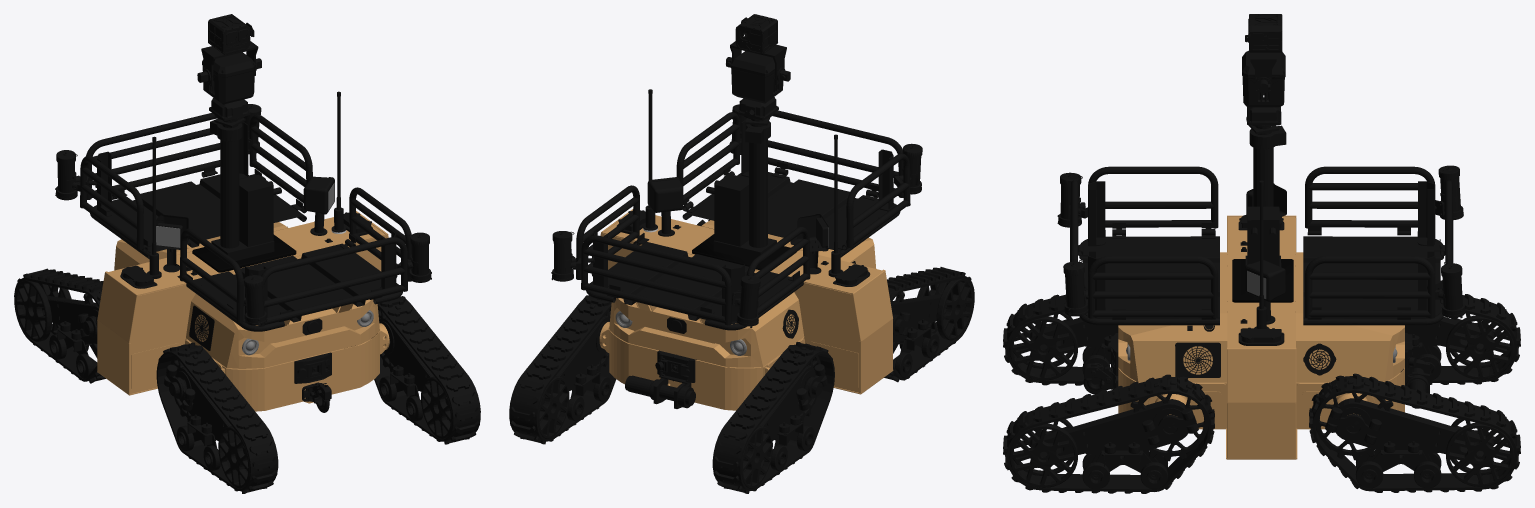
File: Hancer_Root.glb
The picture shows the model from 3 angles, left to right: view 1: azimuth 30°, elevation 25°; view 2: azimuth 150°, elevation 25°; view 3: azimuth 270°, elevation 25°; orthographic projection. The views are drawn at different scales.
Parts seen in each view (by area): view 1: Body, Palet_Front, Palet_Rear, Mast_Gövde, PTZ, CevreIzleme, Mast_Panel, SisHavanı2, SisHavanı, CevreIzlemeGovde, Light_Soma; view 2: Body, Palet_Rear, Palet_Front, Mast_Gövde, PTZ, CevreIzleme, Mast_Panel, SisHavanı, CevreIzlemeGovde; view 3: Body, Palet_Front, Palet_Rear, Mast_Gövde, PTZ, CevreIzleme, Mast_Panel, SisHavanı2, SisHavanı, CevreIzlemeGovde.
Part boxes in pixels (x1,y1,x2,y2): Body: [55, 91, 411, 412]; Palet_Front: [156, 296, 480, 493]; Palet_Rear: [14, 226, 287, 383]; Mast_Gövde: [210, 119, 281, 260]; PTZ: [197, 14, 261, 86]; CevreIzleme: [202, 52, 255, 104]; Mast_Panel: [192, 234, 296, 272]; SisHavanı2: [397, 232, 431, 282]; SisHavanı: [243, 273, 267, 326]; CevreIzlemeGovde: [209, 98, 250, 120]; Light_Soma: [156, 182, 334, 247]; Body: [551, 89, 910, 410]; Palet_Rear: [509, 295, 834, 493]; Palet_Front: [884, 267, 974, 382]; Mast_Gövde: [706, 121, 776, 260]; PTZ: [726, 14, 790, 85]; CevreIzleme: [730, 51, 783, 103]; Mast_Panel: [692, 234, 796, 271]; SisHavanı: [894, 143, 922, 194]; CevreIzlemeGovde: [737, 97, 778, 120]; Body: [1070, 165, 1465, 459]; Palet_Front: [1003, 294, 1214, 493]; Palet_Rear: [1309, 294, 1520, 492]; Mast_Gövde: [1245, 125, 1286, 266]; PTZ: [1245, 14, 1282, 93]; CevreIzleme: [1242, 50, 1285, 107]; Mast_Panel: [1232, 259, 1293, 302]; SisHavanı2: [1063, 260, 1088, 317]; SisHavanı: [1057, 172, 1087, 227]; CevreIzlemeGovde: [1247, 97, 1281, 125].
Size of the model in its own units: 1.46 by 1.95 by 2.26.
